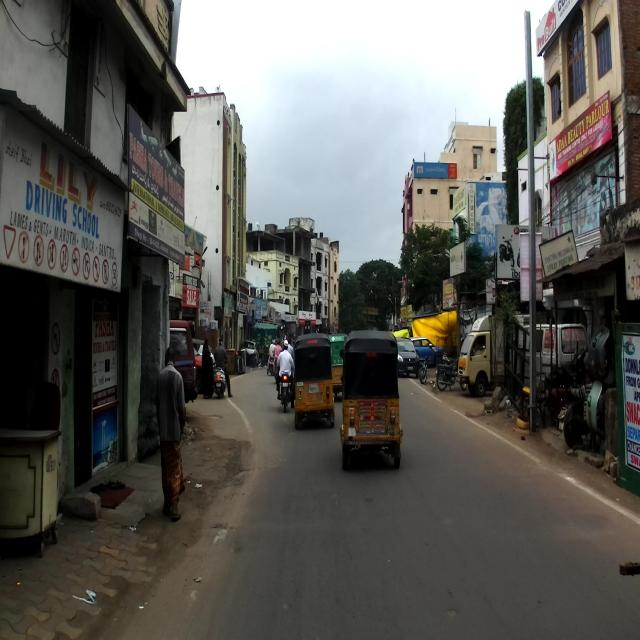autorickshaw: (338, 329, 403, 472)
motorcycle: (557, 386, 586, 448)
